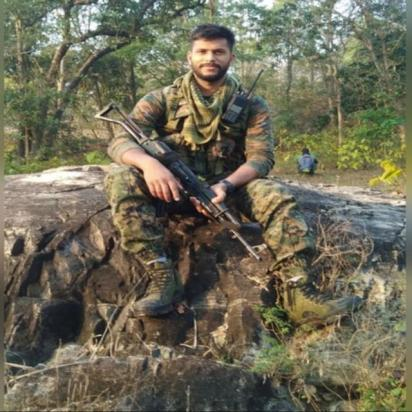Gun: (90, 100, 270, 264)
